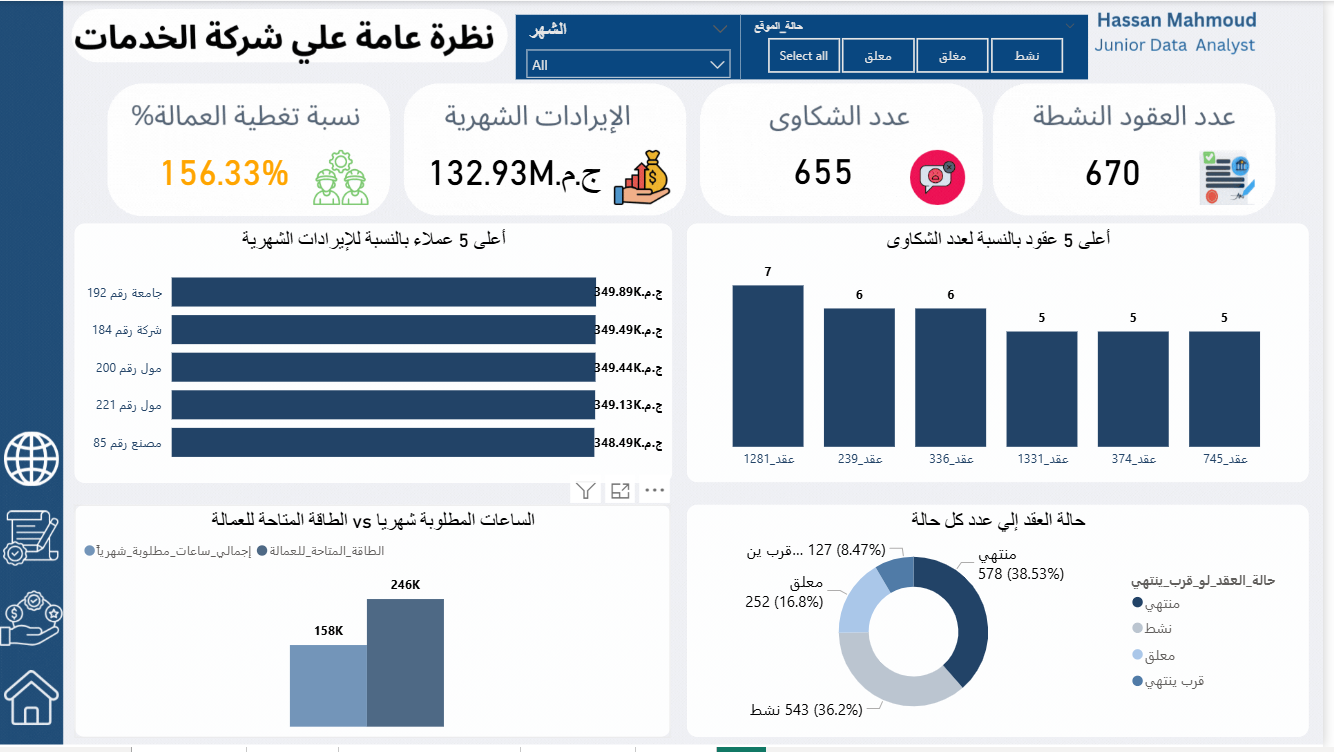

The dashboard page shown, as its layout file describes it:
{"tool":"powerbi","page":{"name":"Executive Overview ","canvas":[1280,720],"ordinal":2},"visuals":[{"type":"card","title":"عدد العقود النشطة","fields":{"Values":["_Measures.عدد_العقود_النشطة"]},"box":[996.5,123.1,160.5,79.6],"z":0},{"type":"card","title":"الإيرادات الشهرية","fields":{"Values":["_Measures.اجمالي_الايرادات_الشهرية"]},"box":[409,123.1,182.2,79.6],"z":1000},{"type":"card","title":"نسبة تغطية العماله","fields":{"Values":["_Measures.نسبة_تغطية_العمالة"]},"box":[138.7,123.1,160.5,79.6],"z":2000},{"type":"card","title":"عدد الشكاوى","fields":{"Values":["_Measures.عدد_الشكاوي"]},"box":[717.8,121.9,159.3,80.8],"z":3000},{"type":"columnChart","title":"أعلى 5 عقود بالنسبة لعدد الشكاوى","fields":{"Category":["عقود.اسم_العقد"],"Y":["_Measures.عدد_الشكاوي"]},"box":[666,214.7,599.6,249.7],"z":4000},{"type":"donutChart","title":"حالة العقد إلي عدد كل حالة","fields":{"Category":["عقود.حالة_العقد_لو_قرب_ينتهي"],"Y":["CountNonNull(عقود.حالة_العقد_لو_قرب_ينتهي)"]},"box":[666,486.2,599.6,224.4],"z":5000},{"type":"clusteredColumnChart","title":"الطاقة المتاحة للعمالة vs الساعات المطلوبة شهريا","fields":{"Y":["_Measures.اجمالي_ساعات_مطلوبة_شهرياً","_Measures.الطاقة_المتاحة_للعمالة"]},"box":[74.8,486.2,575.5,224.4],"z":6000},{"type":"clusteredBarChart","title":"أعلى 5 عملاء بالنسبة للإيرادات الشهرية","fields":{"Category":["عملاء.اسم_العميل"],"Y":["_Measures.اجمالي_الايرادات_الشهرية"]},"box":[74.8,214.7,576.7,250],"z":7000},{"type":"actionButton","box":[0,640.6,61.5,61.5],"z":8000},{"type":"actionButton","box":[2.4,486.2,61.5,61.5],"z":9000},{"type":"actionButton","box":[1.2,412.6,61.5,61.5],"z":10000},{"type":"slicer","fields":{"Values":["التقويم.MonthNameShort"]},"box":[500.7,13.3,217.2,62.7],"z":11000},{"type":"slicer","fields":{"Values":["مواقع.حالة_الموقع"]},"box":[717.8,13.3,335.4,62.7],"z":12000}]}

Visuals, with their boxes in screenshot pixels (x1, y1, x2, y2), scaled from the page's 1280x720 canvas onto the 1334x752 screenshot:
"عدد العقود النشطة" card: x1=1039 y1=129 x2=1206 y2=212
"الإيرادات الشهرية" card: x1=426 y1=129 x2=616 y2=212
"نسبة تغطية العماله" card: x1=145 y1=129 x2=312 y2=212
"عدد الشكاوى" card: x1=748 y1=127 x2=914 y2=212
"أعلى 5 عقود بالنسبة لعدد الشكاوى" columnChart: x1=694 y1=224 x2=1319 y2=485
"حالة العقد إلي عدد كل حالة" donutChart: x1=694 y1=508 x2=1319 y2=742
"الطاقة المتاحة للعمالة vs الساعات المطلوبة شهريا" clusteredColumnChart: x1=78 y1=508 x2=678 y2=742
"أعلى 5 عملاء بالنسبة للإيرادات الشهرية" clusteredBarChart: x1=78 y1=224 x2=679 y2=485
actionButton: x1=0 y1=669 x2=64 y2=733
actionButton: x1=3 y1=508 x2=67 y2=572
actionButton: x1=1 y1=431 x2=65 y2=495
slicer - التقويم.MonthNameShort: x1=522 y1=14 x2=748 y2=79
slicer - مواقع.حالة_الموقع: x1=748 y1=14 x2=1098 y2=79
